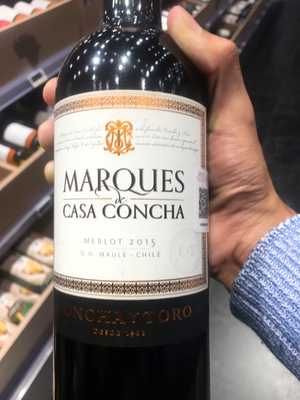marques de casa concha merlot: (49, 22, 240, 386)
